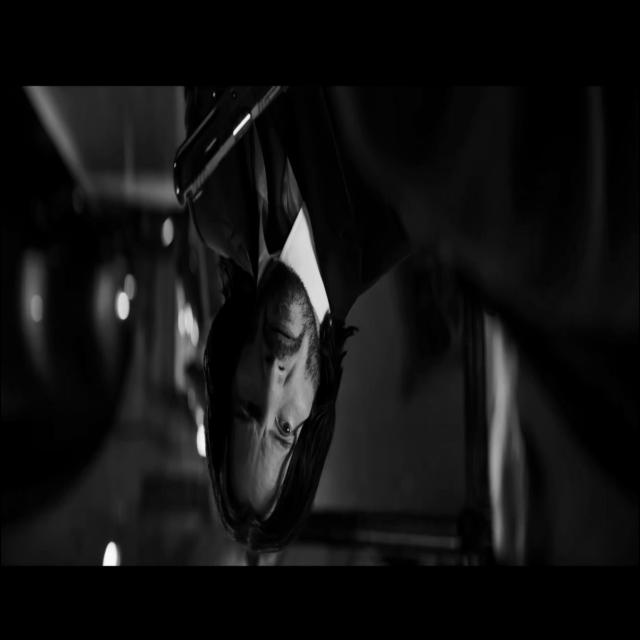weapons: (164, 84, 298, 225)
